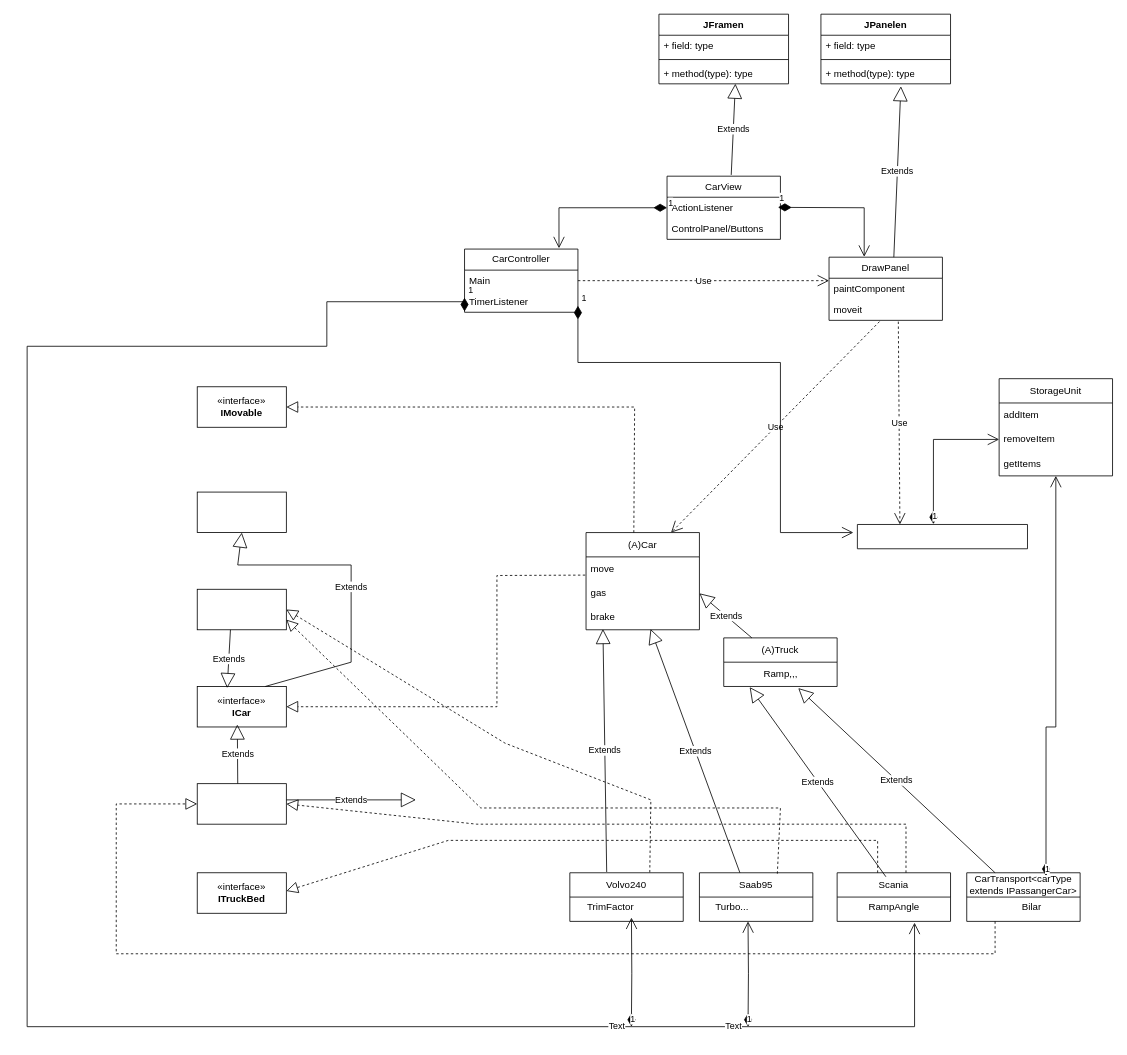
The diagram is 1127 pixels wide and 1055 high, and some of its shapes have lost their labels. The shapes that lost their labels are listed below. From the top down, each one's centre as x and y in pixels, then its label:
point 241,512: «interface» IPosition
point 942,536: Garage<carType extends ICar>
point 241,609: «interface» IPassangerCar
point 241,803: «interface» ITruck
